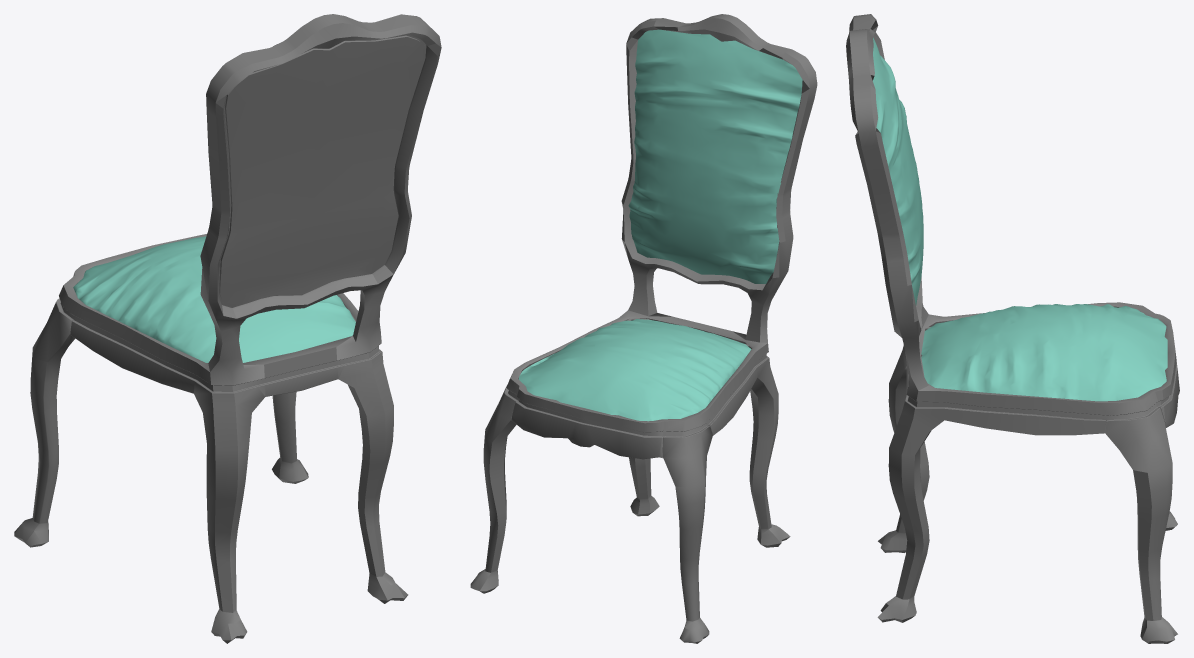
File: clasic chair.FBX
3 renders of one model, left to right at view 1: azimuth 30°, elevation 25°; view 2: azimuth 150°, elevation 25°; view 3: azimuth 270°, elevation 25°, orthographic. The views are drawn at different scales.
Parts seen in each view (by area): view 1: Mesh_104; view 2: Mesh_104; view 3: Mesh_104.
Boxes of the visible parts, left/top/right/bottom form: Mesh_104: left=14, top=14, right=441, bottom=643; Mesh_104: left=470, top=14, right=817, bottom=643; Mesh_104: left=846, top=14, right=1179, bottom=643.
Bounding box in the file's own units: 54.11 × 111 × 61.07.
